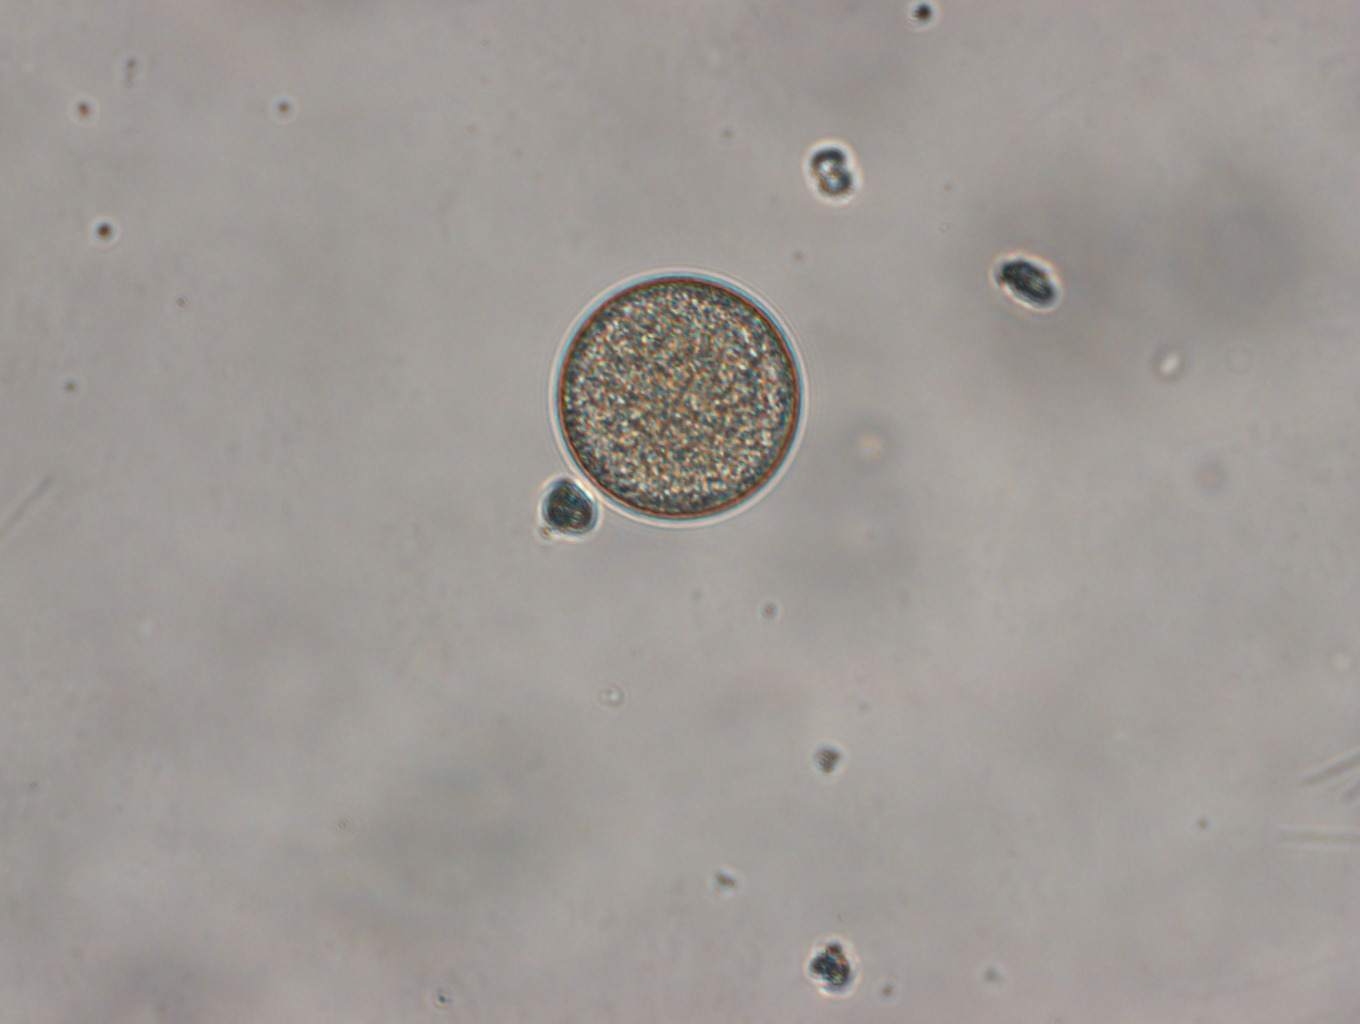coscinodiscus: (545, 265, 810, 527)
